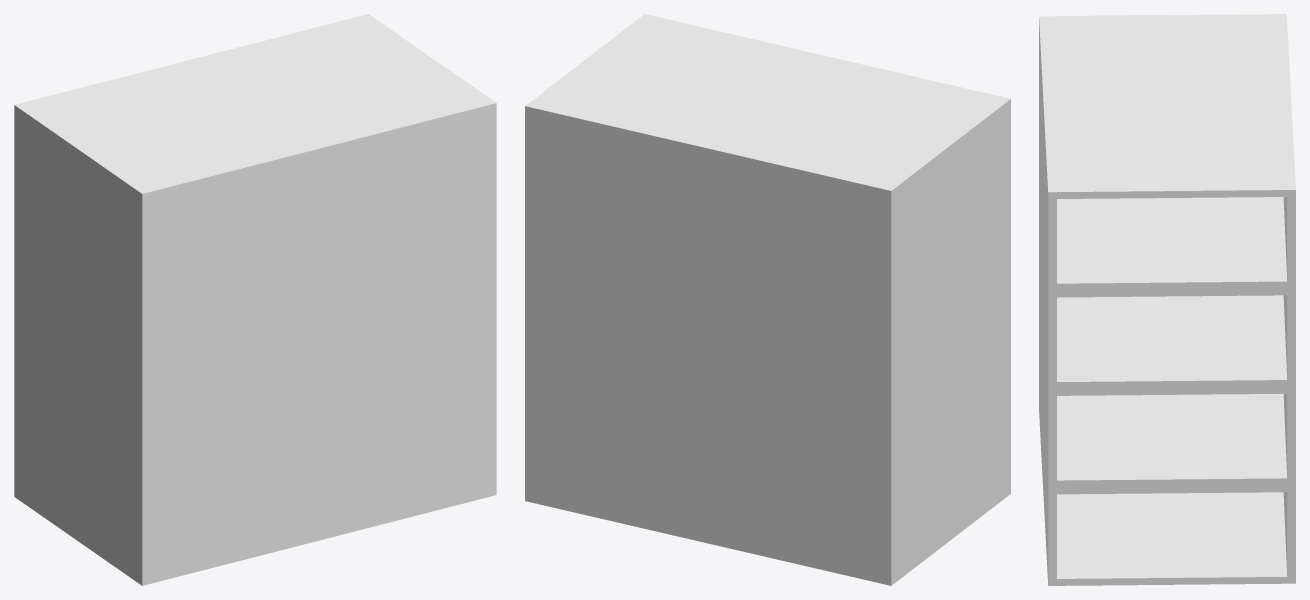
The model's file is Estante.obj.
3 views of the same model, side by side, from view 1: azimuth 30°, elevation 25°; view 2: azimuth 150°, elevation 25°; view 3: azimuth 270°, elevation 25° (orthographic).
Parts seen in each view (by area): view 1: Cuarto:estante:Mesh; view 2: Cuarto:estante:Mesh; view 3: Cuarto:estante:Mesh.
Part boxes in pixels (x1,y1,x2,y2): Cuarto:estante:Mesh: [14, 14, 496, 585]; Cuarto:estante:Mesh: [525, 14, 1010, 585]; Cuarto:estante:Mesh: [1039, 14, 1295, 585].
Bounding box in the file's own units: 1.45 × 1.49 × 0.8804.
1 material, 1 textured.
